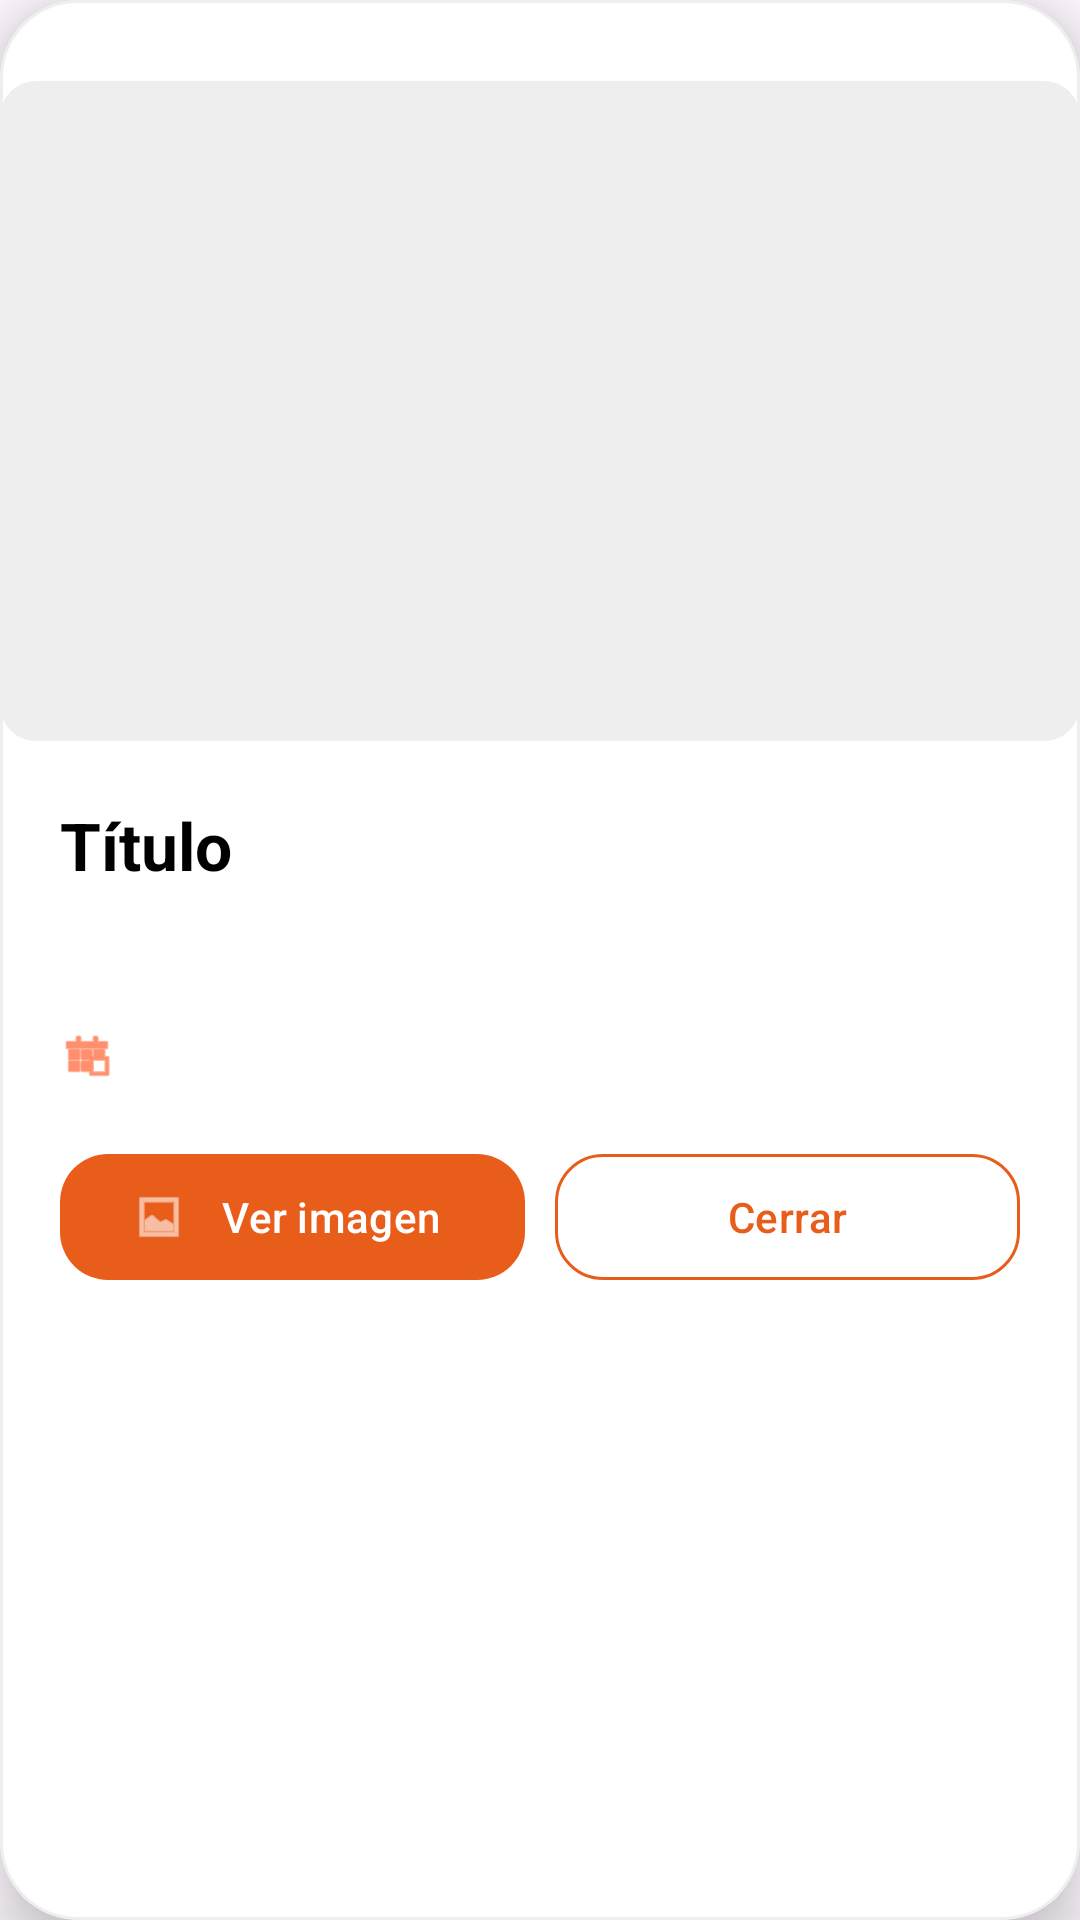

Icons on this 1080x1920 Android screen, each with the point to tap as (x=x, y=y):
today: (x=87, y=1055)
